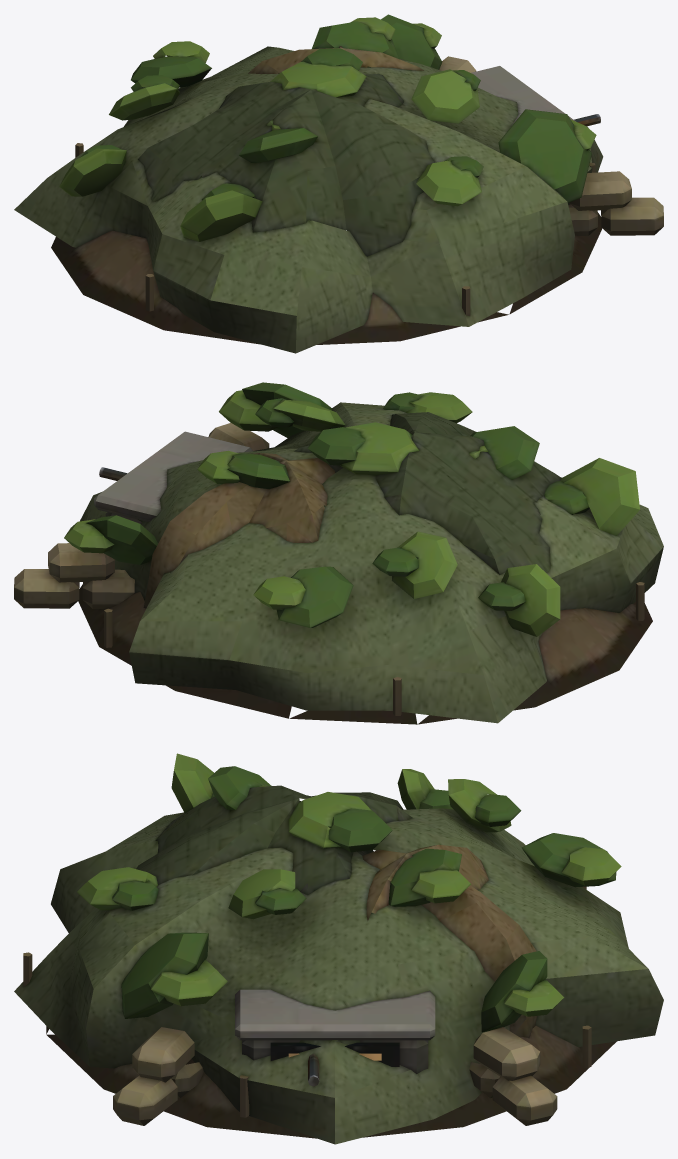
The model's file is hbox.allies.glb.
3 views of the same model, one above another, from view 1: azimuth 30°, elevation 25°; view 2: azimuth 150°, elevation 25°; view 3: azimuth 270°, elevation 25° (orthographic). The views are drawn at different scales.
Visible parts, largest first — view 1: root_mesh; view 2: root_mesh; view 3: root_mesh.
Part boxes in pixels (left/top/right/bottom): root_mesh: left=14, top=14, right=663, bottom=353; root_mesh: left=14, top=382, right=663, bottom=724; root_mesh: left=14, top=753, right=663, bottom=1144.
Bounding box in the file's own units: 0.956 × 0.3019 × 0.9082.
Materials: 1 (1 with a texture image).
